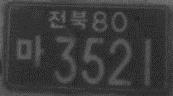0: (110, 10, 128, 33)
1: (143, 36, 152, 89)
2: (109, 37, 134, 87)
3: (53, 34, 77, 85)
5: (80, 37, 105, 85)
8: (91, 9, 108, 33)
마: (15, 33, 45, 69)
전북_O: (48, 7, 88, 31)
